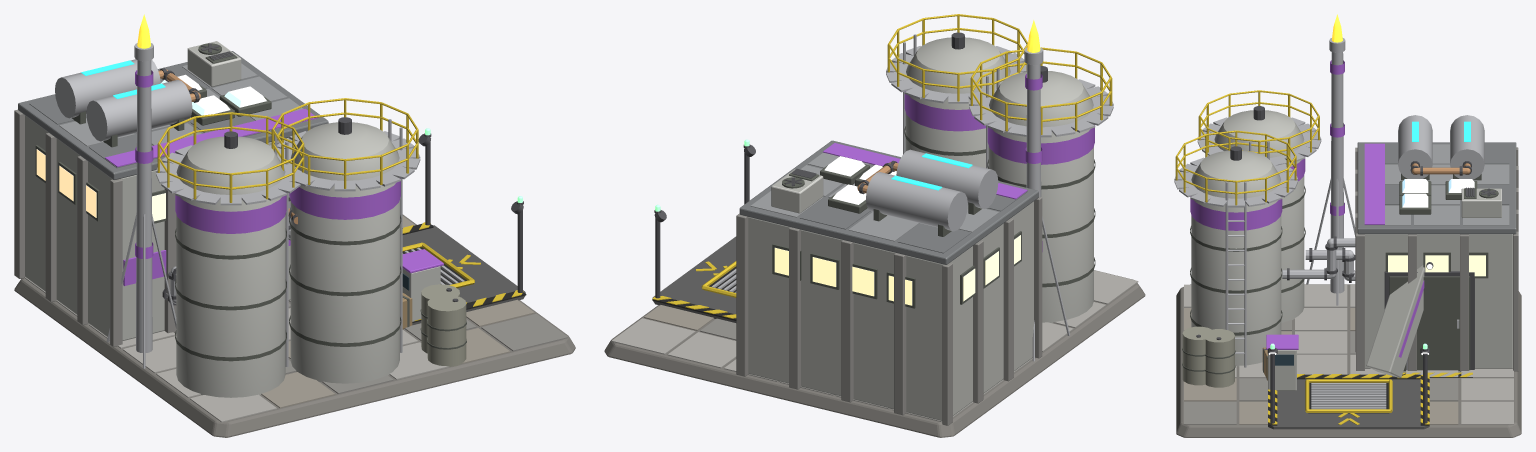
File: refinery_purple.glb
3 renders of one model, left to right at view 1: azimuth 30°, elevation 25°; view 2: azimuth 150°, elevation 25°; view 3: azimuth 270°, elevation 25°, orthographic. The views are drawn at different scales.
Visible parts, largest first — view 1: Body; view 2: Body; view 3: Body.
Part boxes in pixels (x1,y1,x2,y2): Body: (14, 14, 575, 437); Body: (604, 14, 1145, 437); Body: (1174, 14, 1521, 437).
Bounding box in the file's own units: 6.06 × 5.5 × 6.01.
1 material, 1 textured.
